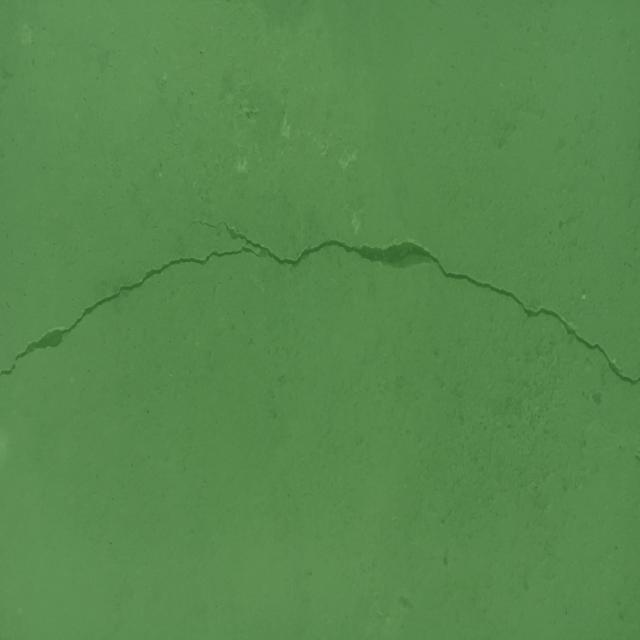crack: (0, 220, 640, 386)
